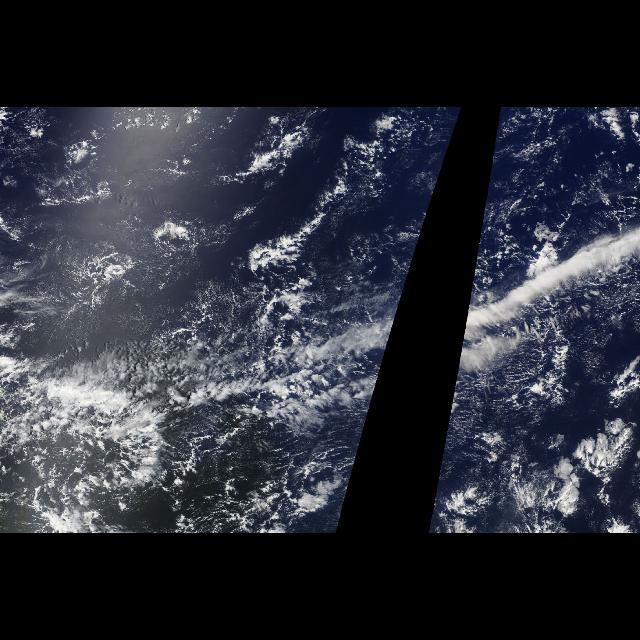Fish: (160, 296, 384, 428)
Sugar: (0, 156, 260, 356)
